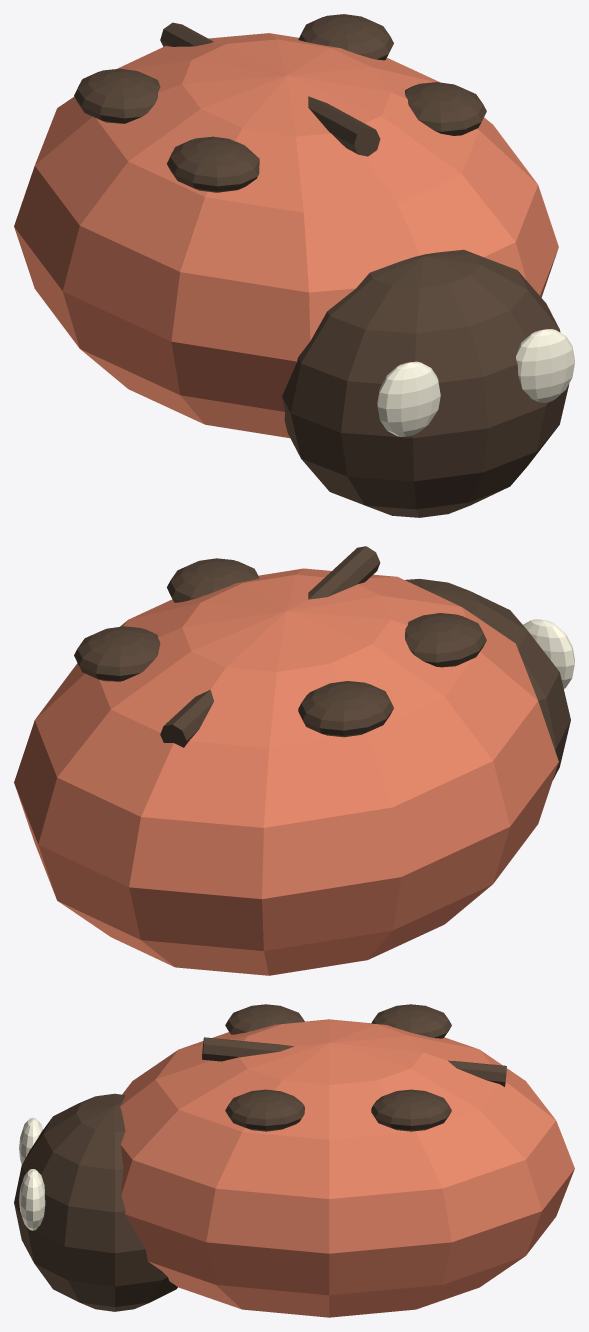
Rendered from Ladybug.fbx.
The picture shows the model from 3 angles, top to bottom: view 1: azimuth 30°, elevation 25°; view 2: azimuth 150°, elevation 25°; view 3: azimuth 270°, elevation 25°; orthographic projection. The views are drawn at different scales.
Parts seen in each view (by area): view 1: Ladybug shell, Head, Spot, Eye.004, Spot.001, Eye.005, Spot.002, Spot.003, Shell seam; view 2: Ladybug shell, Head, Spot.001, Spot.003, Spot, Shell seam, Spot.002, Eye.004; view 3: Ladybug shell, Head, Spot.003, Spot.002, Shell seam, Spot.001, Spot, Eye.005, Eye.004.
Part boxes in pixels (bbox=[...]): Ladybug shell: bbox=[14, 33, 558, 438]; Head: bbox=[282, 249, 569, 517]; Spot: bbox=[167, 136, 259, 192]; Eye.004: bbox=[377, 361, 440, 436]; Spot.001: bbox=[74, 68, 160, 123]; Eye.005: bbox=[516, 329, 574, 402]; Spot.002: bbox=[405, 82, 486, 135]; Spot.003: bbox=[298, 14, 393, 60]; Shell seam: bbox=[160, 22, 380, 156]; Ladybug shell: bbox=[14, 568, 558, 975]; Head: bbox=[405, 578, 570, 779]; Spot.001: bbox=[298, 681, 393, 737]; Spot.003: bbox=[74, 626, 160, 681]; Spot: bbox=[405, 613, 486, 667]; Shell seam: bbox=[160, 546, 380, 747]; Spot.002: bbox=[167, 558, 259, 602]; Eye.004: bbox=[523, 619, 574, 688]; Ladybug shell: bbox=[120, 1019, 574, 1317]; Head: bbox=[14, 1093, 177, 1311]; Spot.003: bbox=[371, 1089, 451, 1131]; Spot.002: bbox=[225, 1089, 304, 1131]; Shell seam: bbox=[202, 1037, 506, 1086]; Spot.001: bbox=[371, 1004, 451, 1038]; Spot: bbox=[225, 1004, 304, 1034]; Eye.005: bbox=[19, 1169, 45, 1230]; Eye.004: bbox=[19, 1117, 42, 1164].
Bounding box in the file's own units: 64 × 45.89 × 89.
